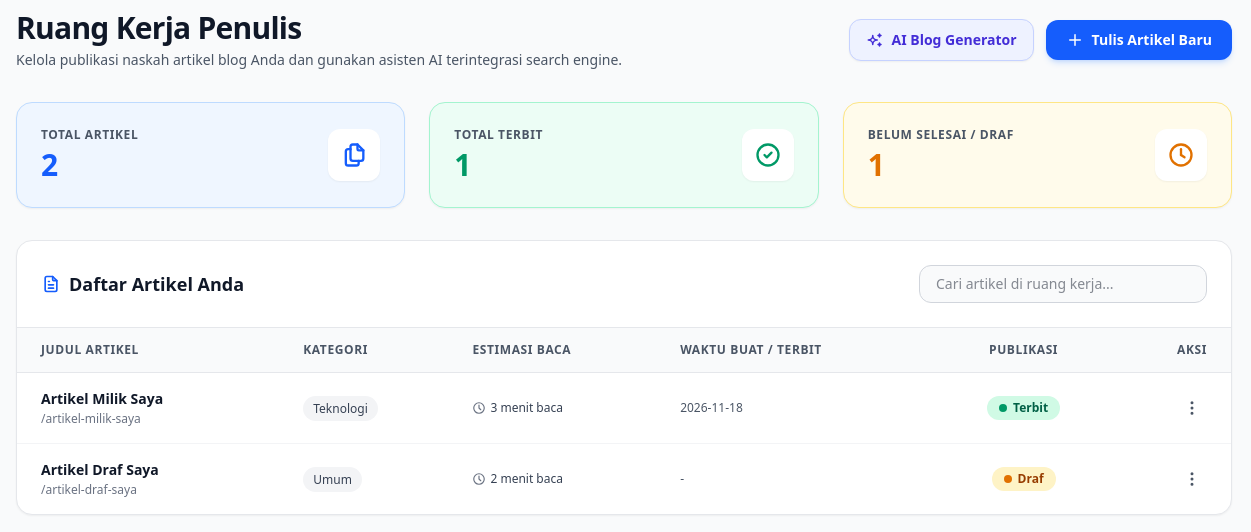
Test: AuthorDashboard › filters posts using search input
This screenshot has width=1251, height=532.
Expected: the text "Artikel Milik Saya" is shown, x1=41 y1=389 x2=163 y2=408
Step 1. Type "Draf" into the field with placeholder "Cari artikel di ruang kerja..." → (1063, 284), box x1=919 y1=265 x2=1207 y2=303
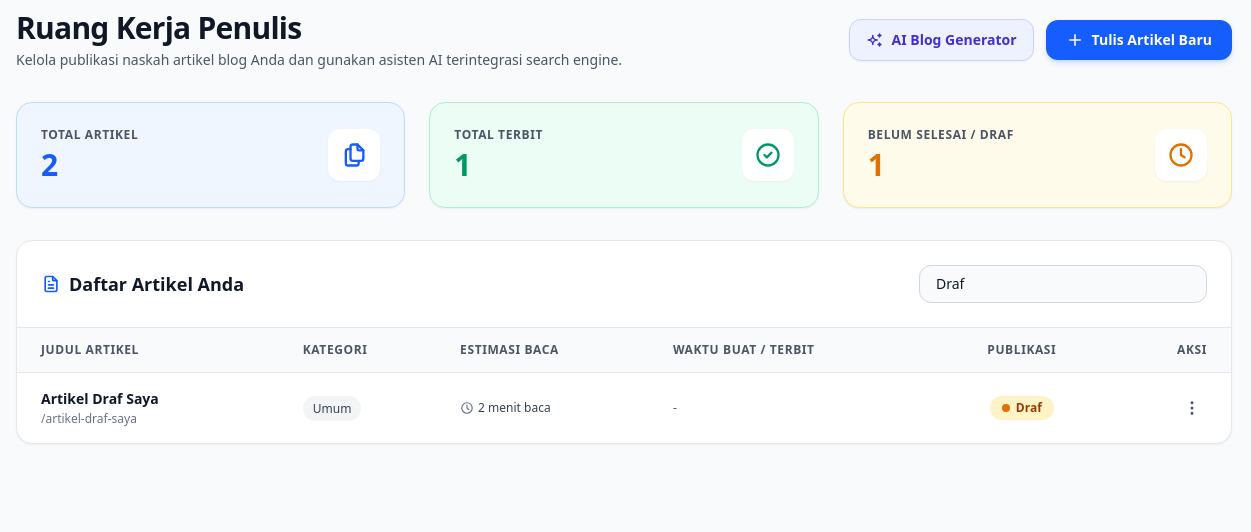
Expected: the text "Artikel Draf Saya" is shown, x1=41 y1=389 x2=159 y2=408
Now the text "Artikel Milik Saya" is gone
